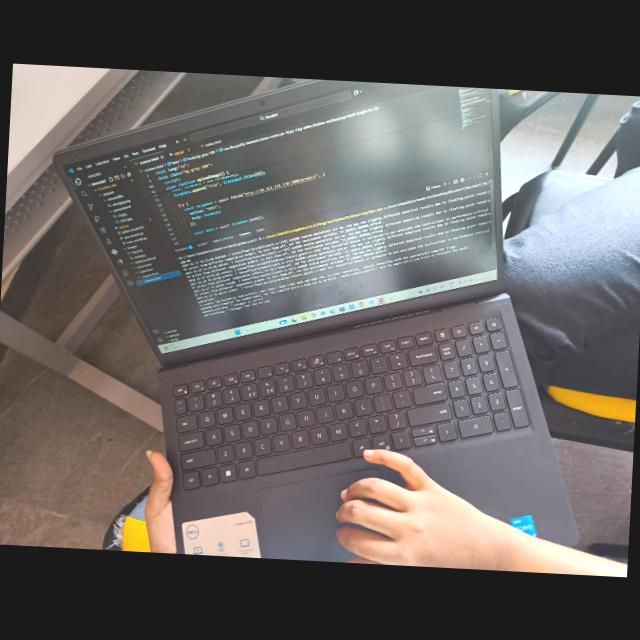laptop: (26, 65, 606, 568)
